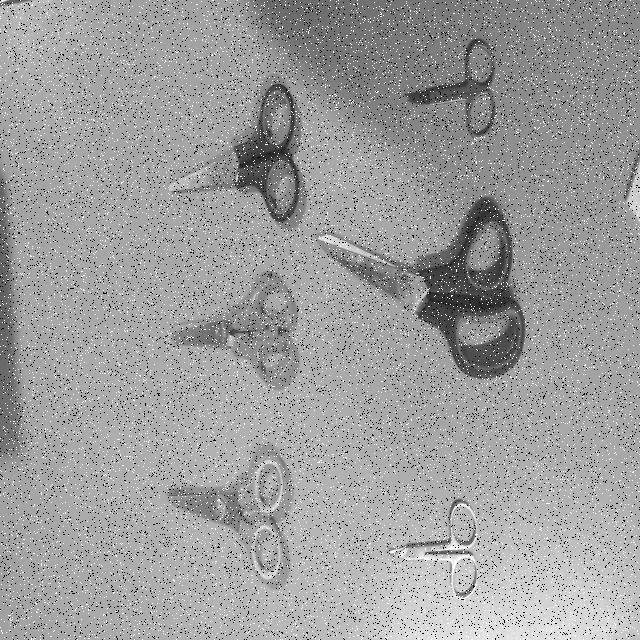scissors: (316, 205, 527, 382), (167, 76, 300, 227), (165, 447, 286, 587), (168, 273, 295, 389), (402, 34, 497, 144), (385, 495, 479, 601)
